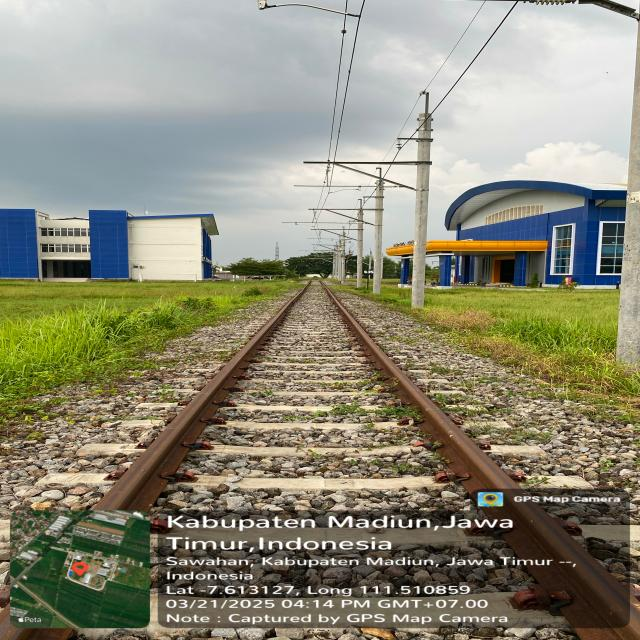rail-detection: (323, 286, 640, 640), (95, 283, 309, 511)
